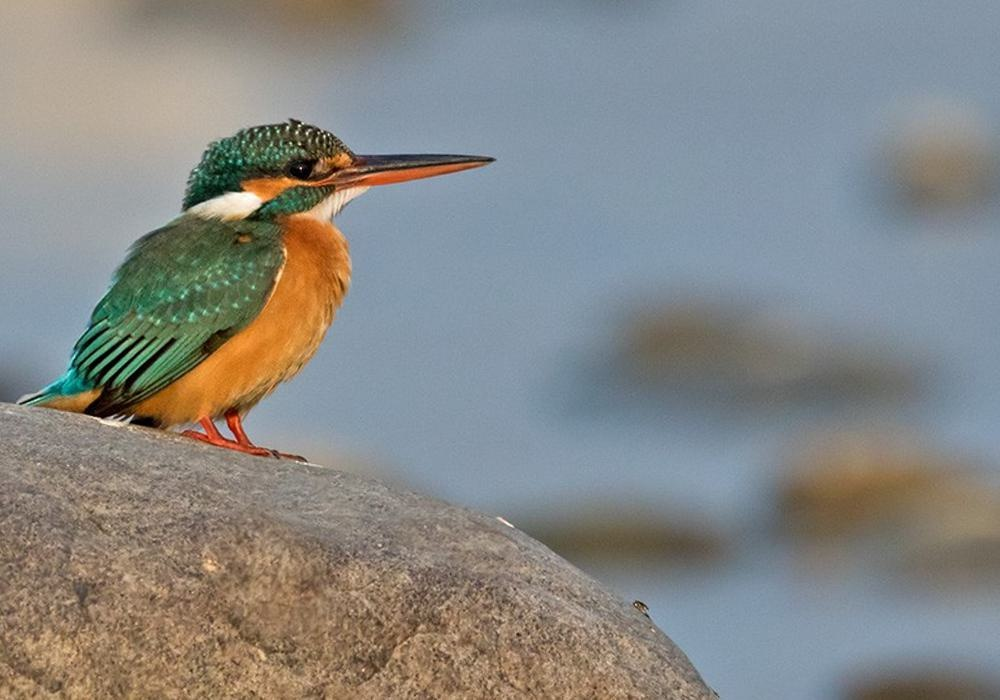kingfisher: (1, 118, 502, 430)
